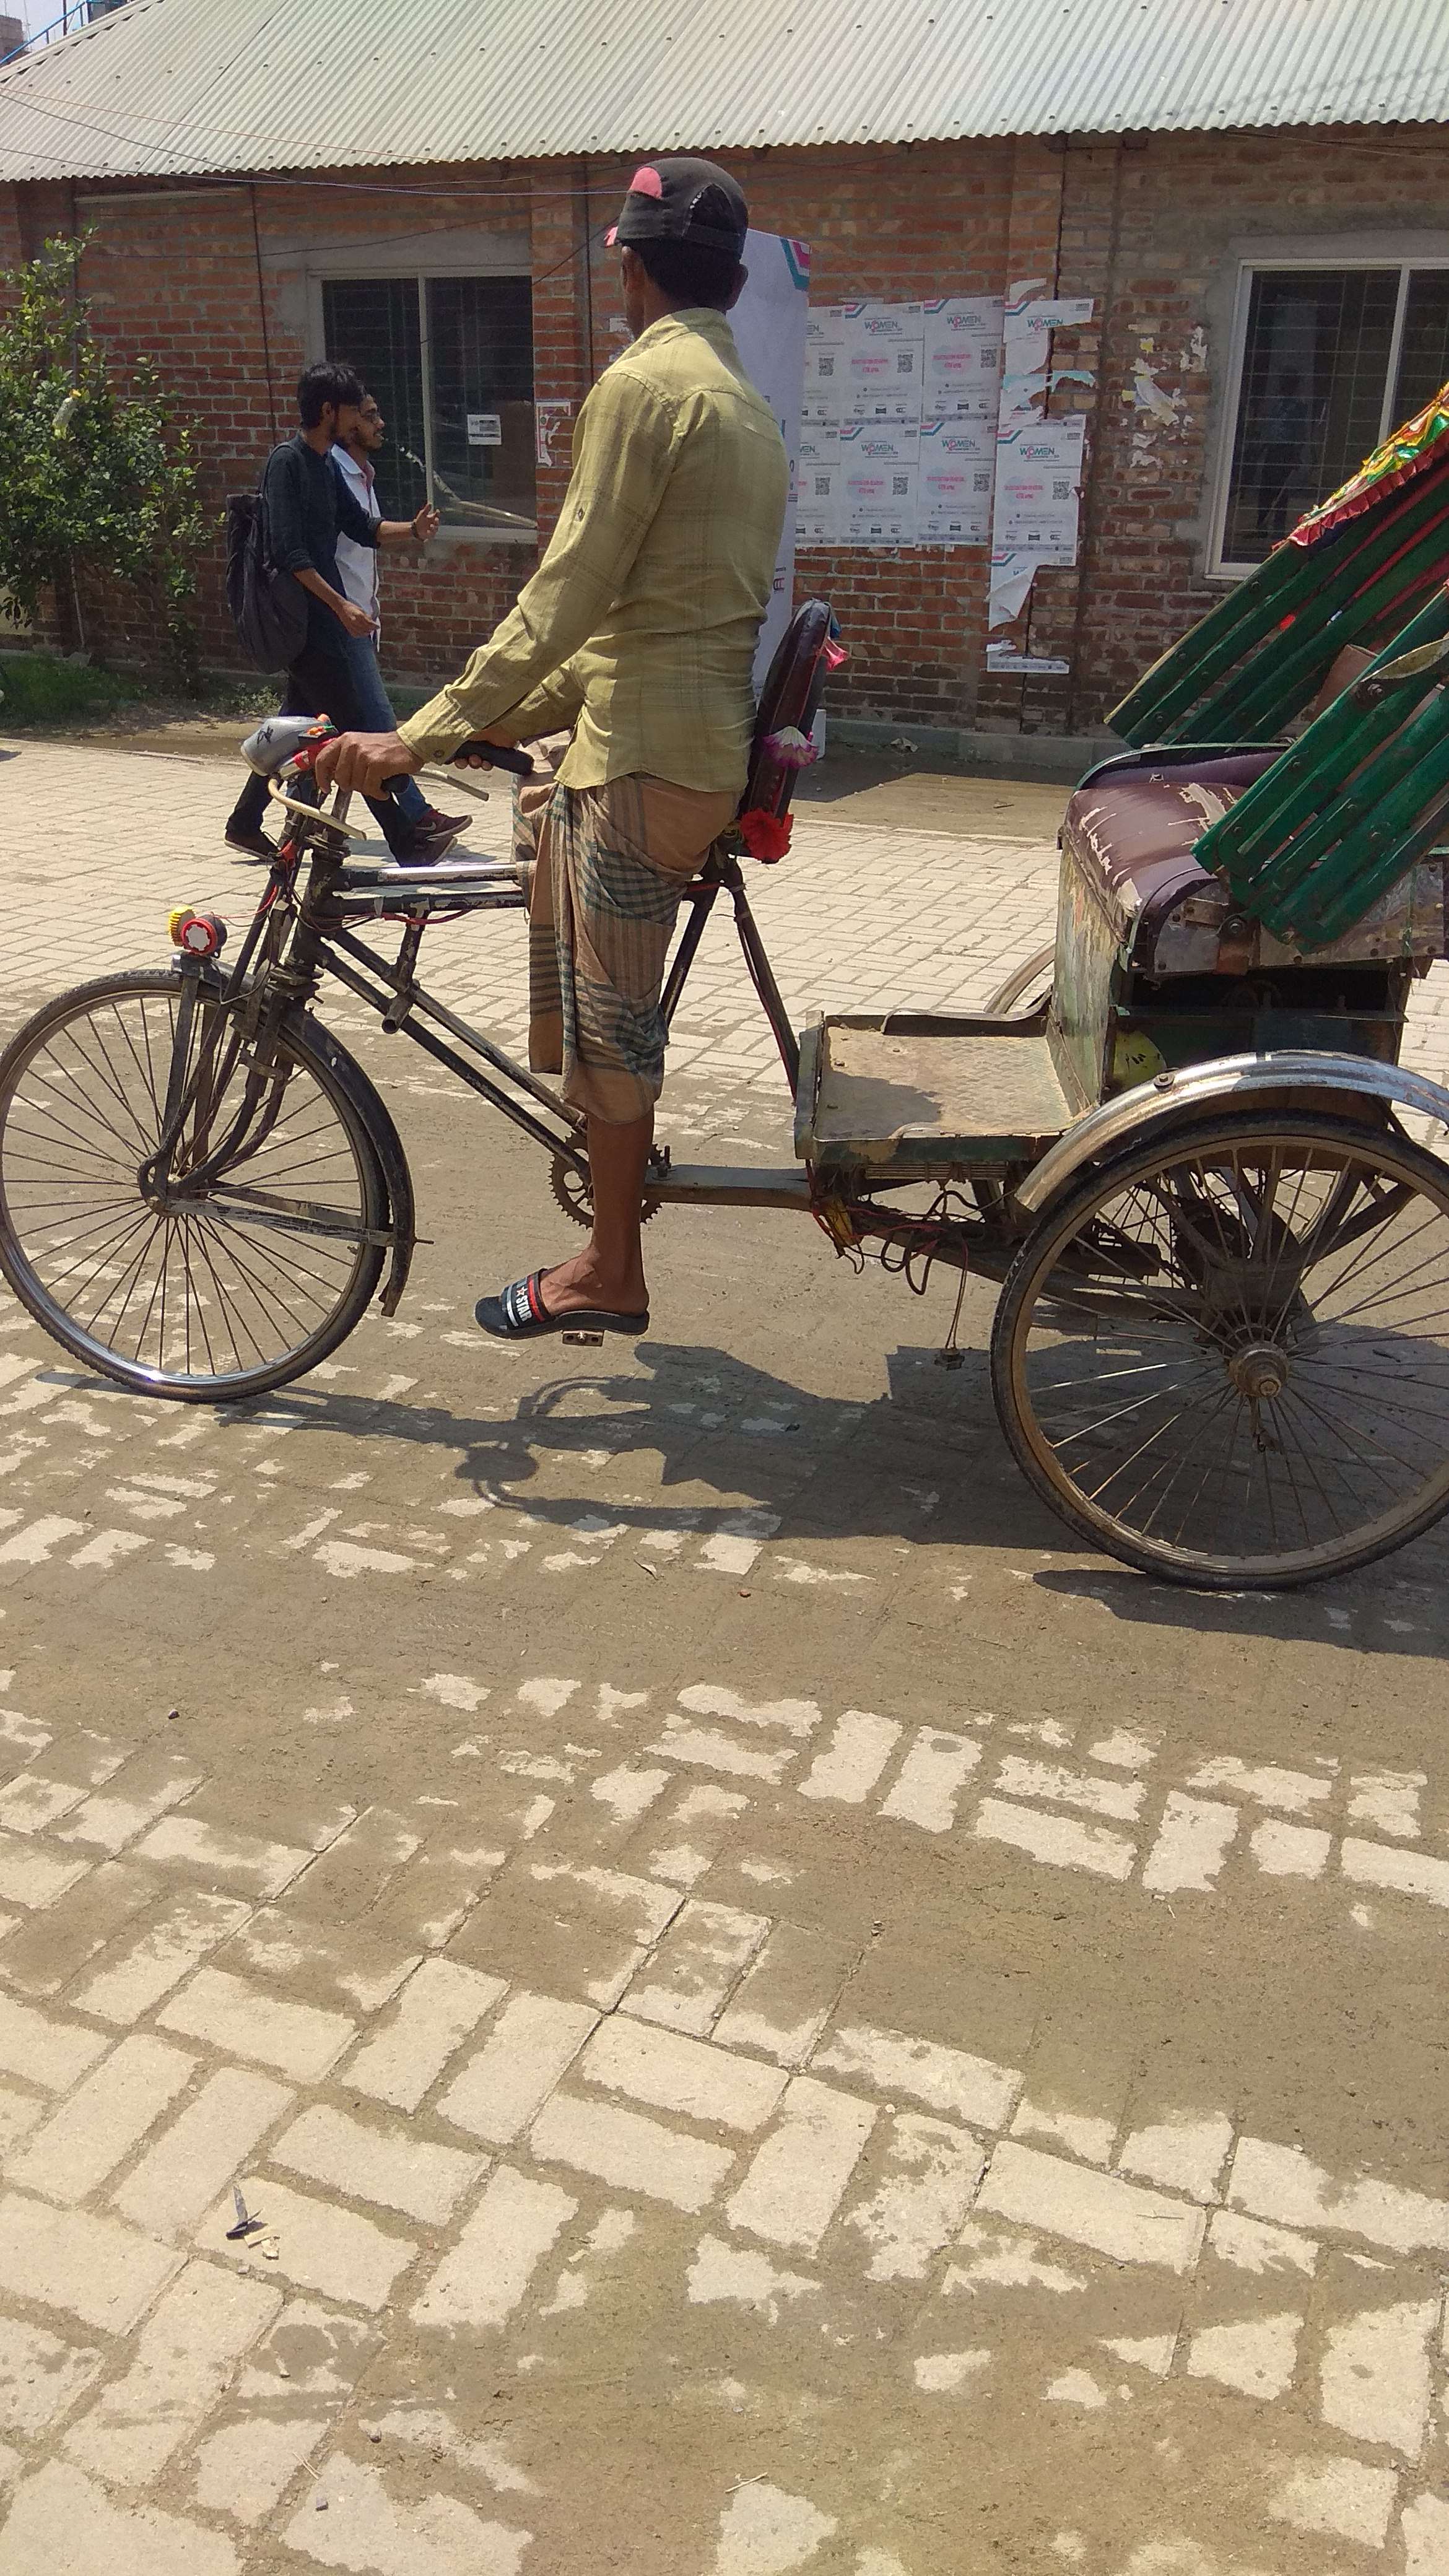Rickshaw: (39, 287, 1440, 1585)
